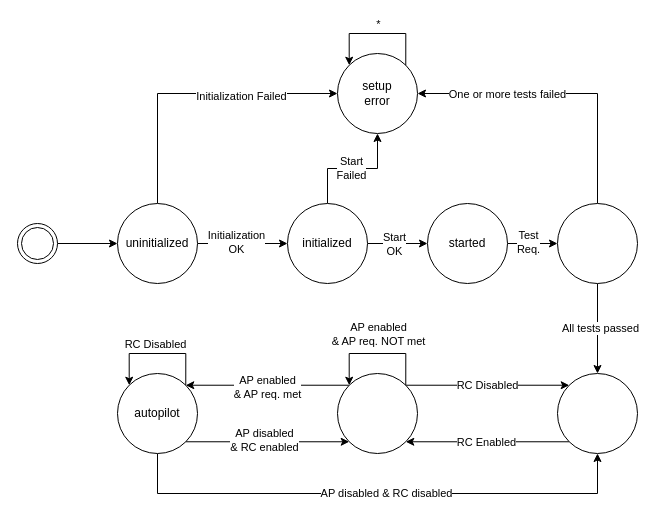
The diagram is 656 pixels wide and 519 high, and some of its shapes have lost their labels. The box of each missing label's shape, as (x1, y1, x2, y2) in pixels:
idling: (556, 372, 638, 454)
rc_control: (336, 372, 418, 454)
testing: (556, 202, 638, 284)
